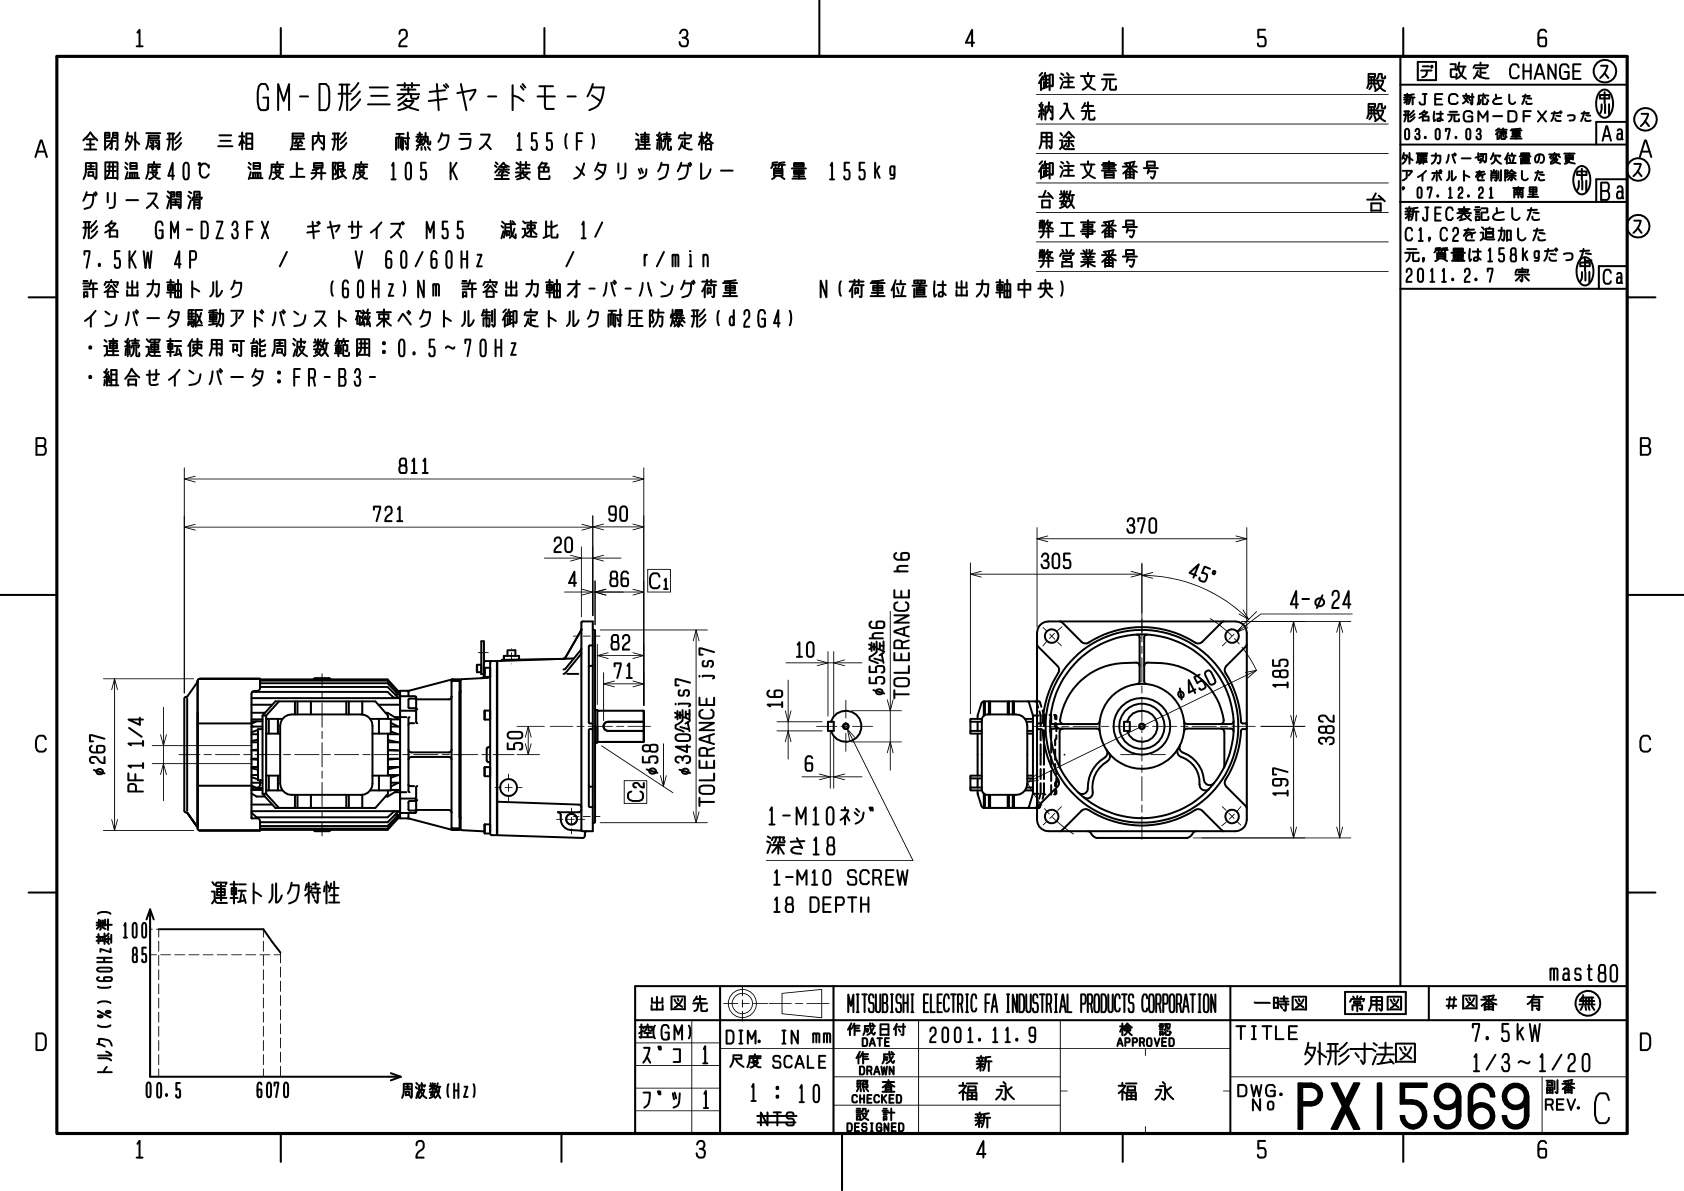GM_D_制御屋内_三相_フランジ: (75, 414, 1379, 953)
